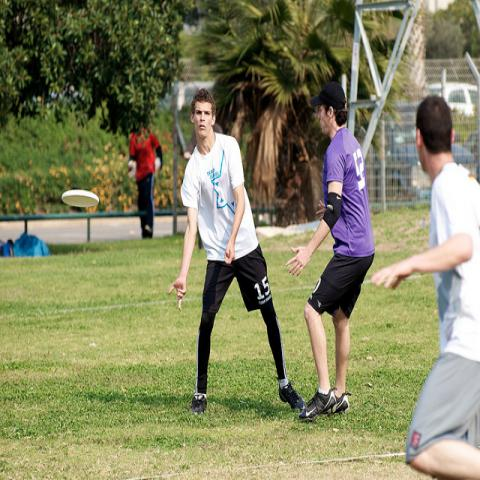car: (398, 163, 431, 202)
